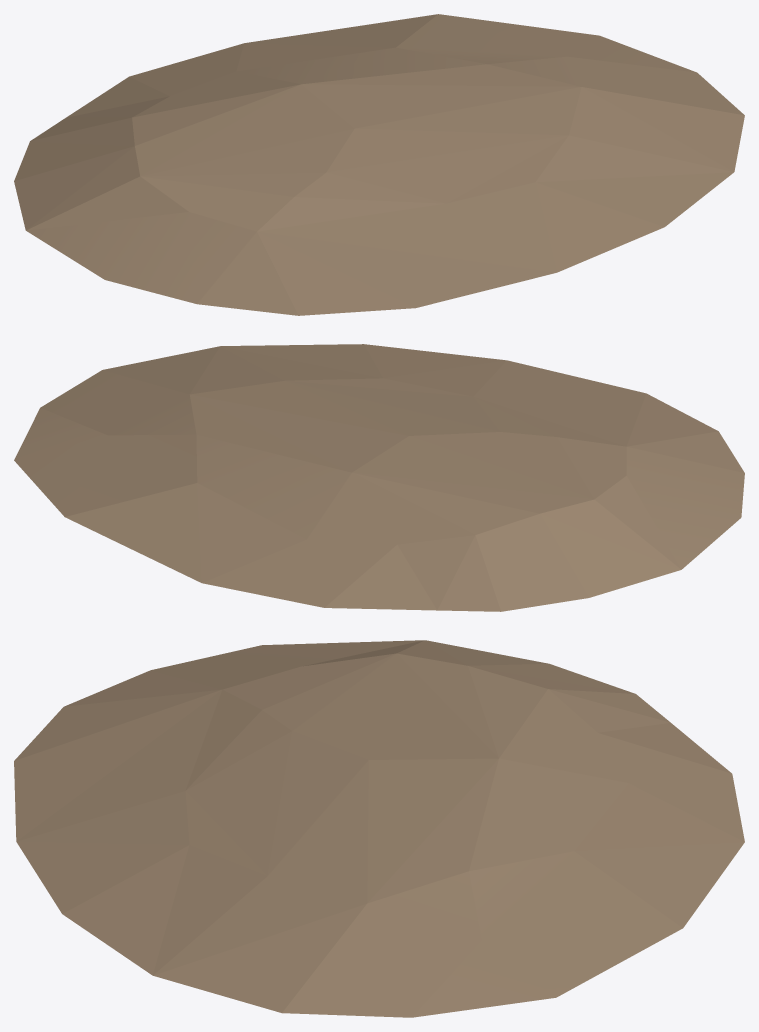
File: SM_Env_Ground_Round_03.glb
The picture shows the model from 3 angles, top to bottom: view 1: azimuth 30°, elevation 25°; view 2: azimuth 150°, elevation 25°; view 3: azimuth 270°, elevation 25°; orthographic projection. The views are drawn at different scales.
Parts seen in each view (by area): view 1: SM_Env_Ground_Round_03; view 2: SM_Env_Ground_Round_03; view 3: SM_Env_Ground_Round_03.
Boxes of the visible parts, <box> form: SM_Env_Ground_Round_03: <box>14,14,744,315</box>; SM_Env_Ground_Round_03: <box>14,344,744,611</box>; SM_Env_Ground_Round_03: <box>14,640,744,1017</box>.
Bounding box in the file's own units: 5.23 × 0.3615 × 4.28.
Materials: 1 (1 with a texture image).
